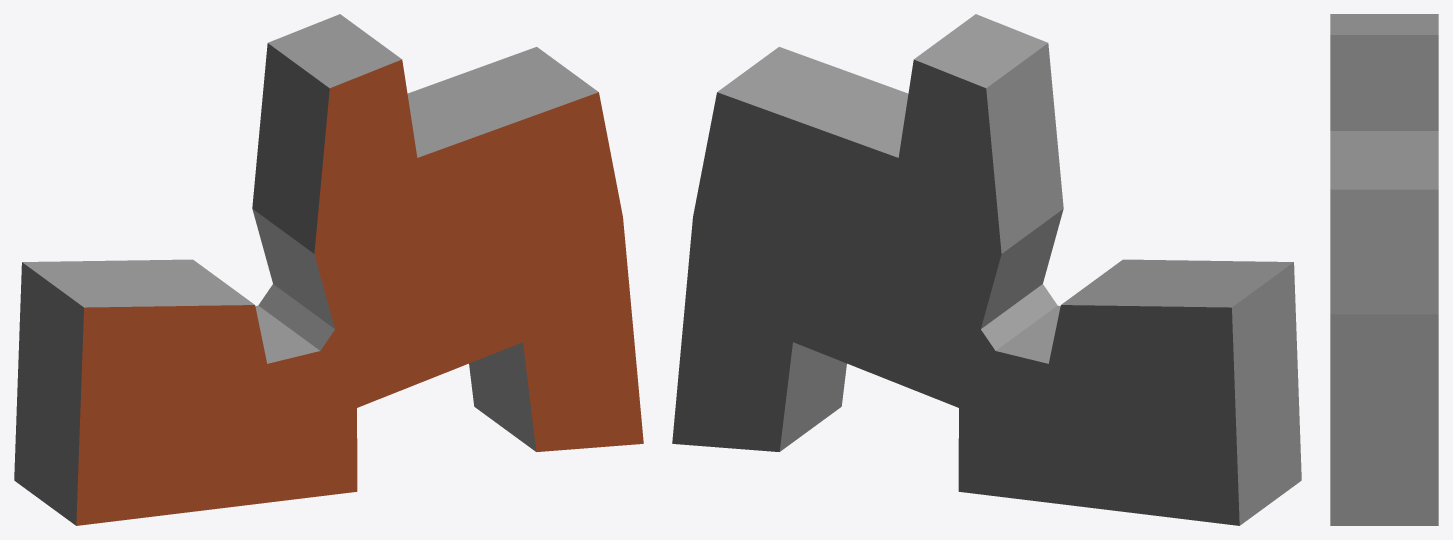
The model's file is construction_0974_assumed_A_Casa_h6m.obj.
3 renders of one model, left to right at view 1: azimuth 30°, elevation 25°; view 2: azimuth 150°, elevation 25°; view 3: azimuth 270°, elevation 25°, orthographic. The views are drawn at different scales.
Parts seen in each view (by area): view 1: construction_0974_assumed_A_Casa; view 2: construction_0974_assumed_A_Casa; view 3: construction_0974_assumed_A_Casa.
Boxes of the visible parts, x1,y1,x2,y2 form: construction_0974_assumed_A_Casa: [14, 14, 643, 525]; construction_0974_assumed_A_Casa: [672, 14, 1301, 525]; construction_0974_assumed_A_Casa: [1330, 14, 1438, 525].
Size of the model in its own units: 31.65 by 23.63 by 6.
